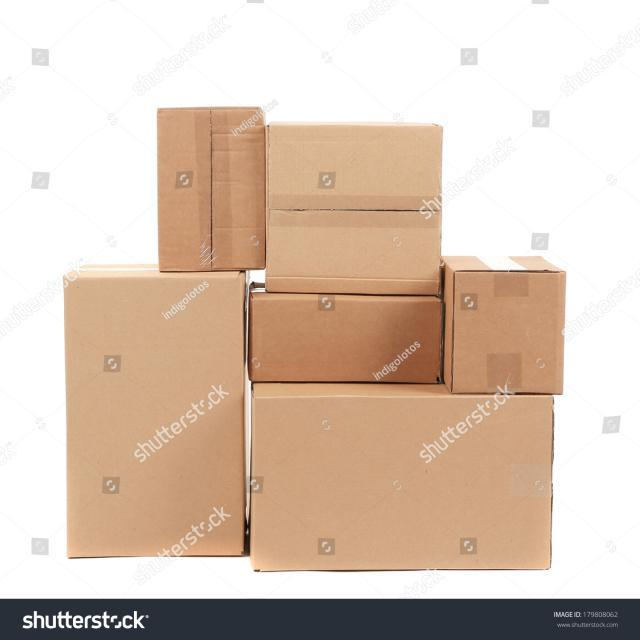BoxFace: (252, 396, 553, 572), (66, 274, 245, 558), (266, 124, 442, 294), (155, 107, 266, 272), (250, 296, 443, 383), (453, 270, 567, 394)
